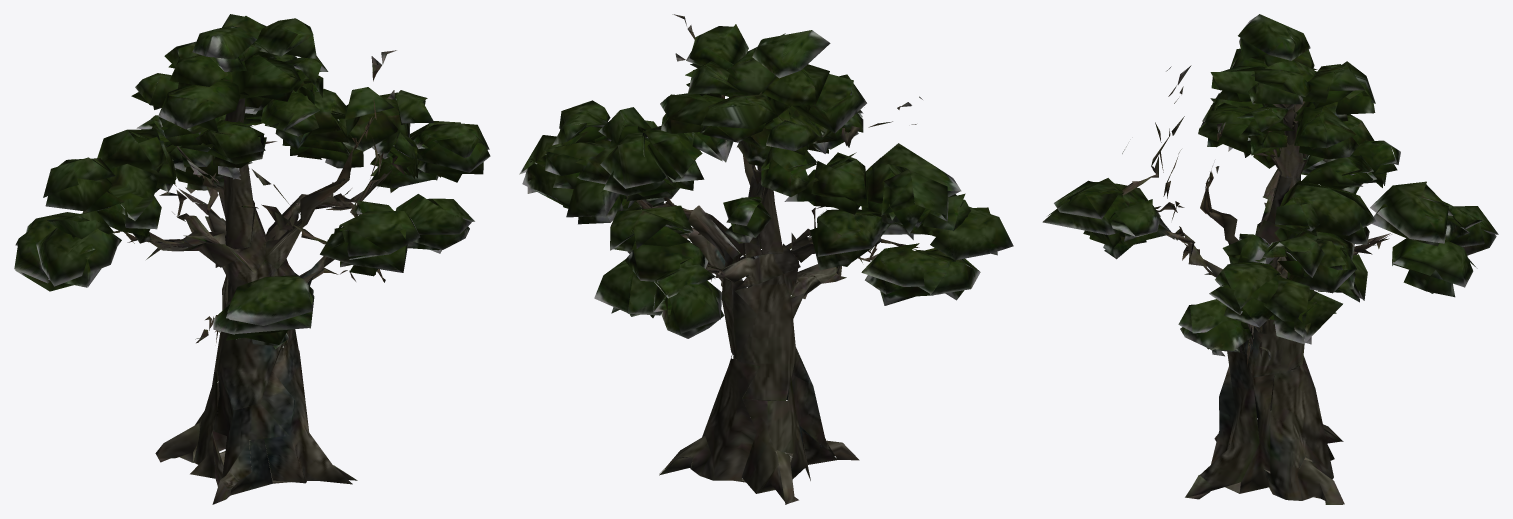
Rendered from oak.glb.
3 renders of one model, left to right at view 1: azimuth 30°, elevation 25°; view 2: azimuth 150°, elevation 25°; view 3: azimuth 270°, elevation 25°, orthographic. The views are drawn at different scales.
Visible parts, largest first — view 1: oak_p2; view 2: oak_p2; view 3: oak_p2.
Part boxes in pixels (box(x1,y1,x2,y2)): oak_p2: box(14, 14, 490, 504); oak_p2: box(519, 14, 1013, 504); oak_p2: box(1042, 14, 1498, 504).
Size of the model in its own units: 1.08 by 1 by 0.9497.
2 materials, 2 textured.
